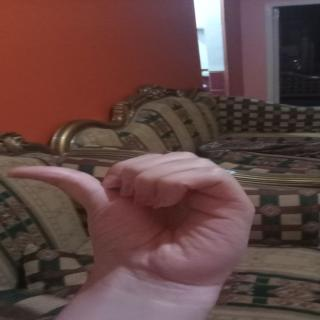WAW: (5, 151, 276, 283)
